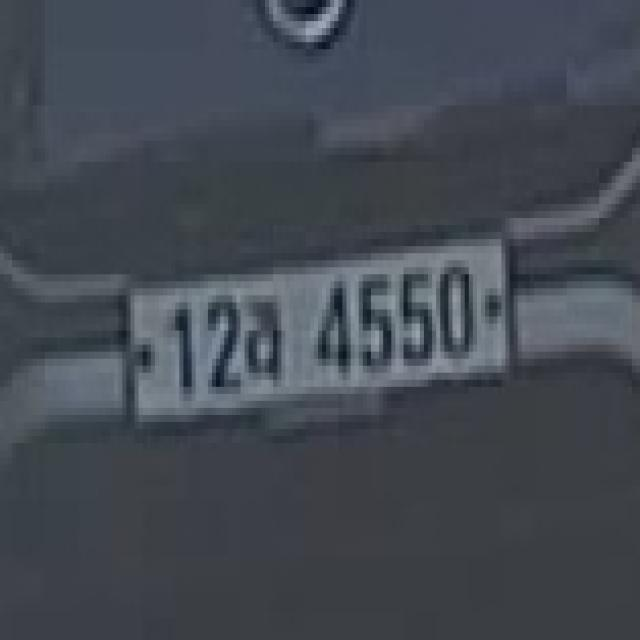0: (436, 253, 481, 387)
1: (167, 288, 200, 429)
2: (203, 288, 244, 401)
4: (314, 267, 355, 408)
5: (350, 260, 396, 401), (400, 260, 436, 387)
la: (240, 288, 294, 415)
license_plate: (114, 225, 522, 471)
